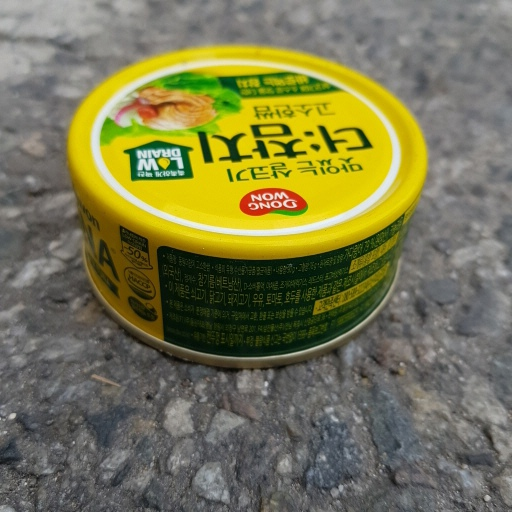Metal_1: (64, 47, 428, 367)
